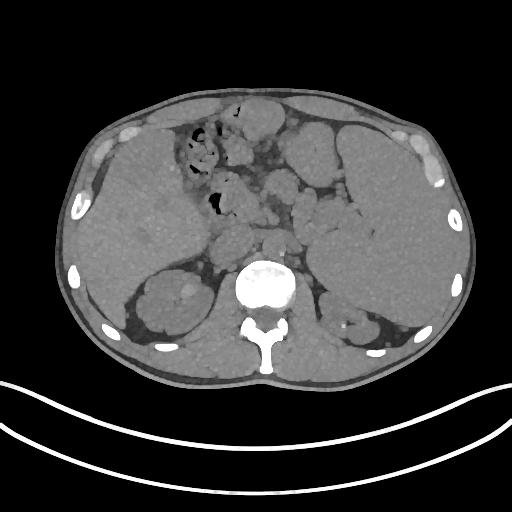Lesion: (174, 280, 202, 306)
